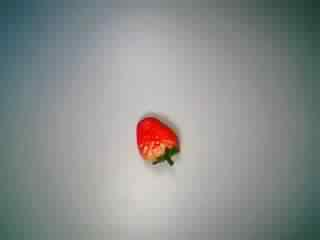strawberry: (119, 114, 188, 171)
